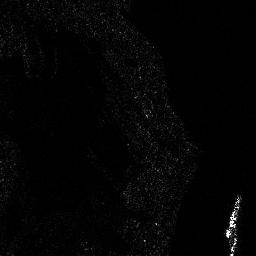ship: (226, 193, 240, 239)
